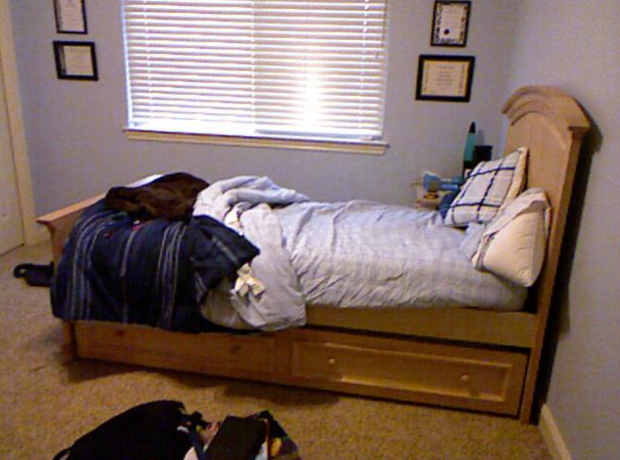cabinetDoor: (292, 350, 505, 387), (76, 332, 274, 361)
window: (133, 3, 379, 116)
